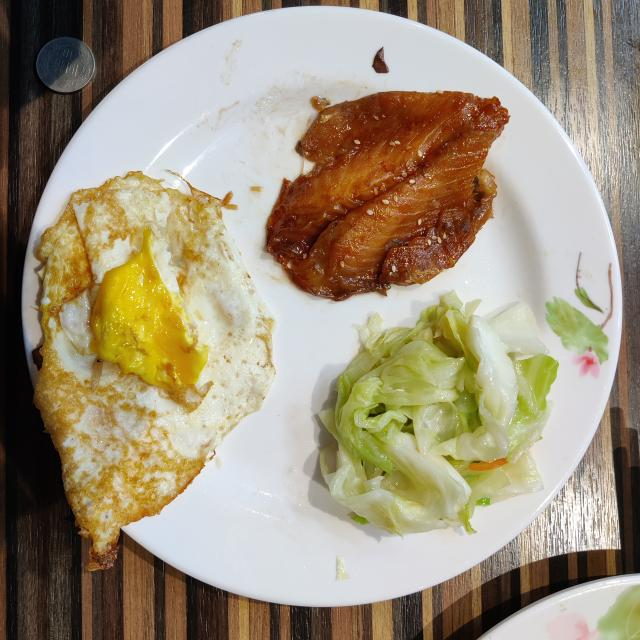Kabayaki sea bream fillet: (266, 91, 509, 300)
cabbage: (320, 291, 558, 535)
coin: (36, 38, 95, 92)
